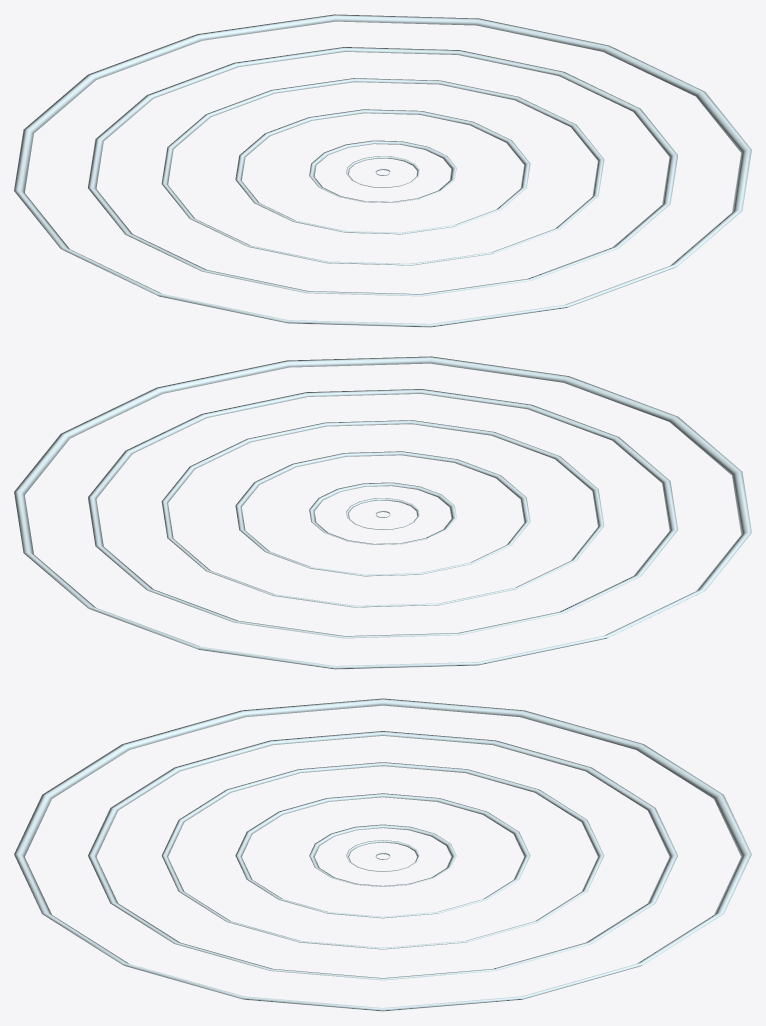
Rendered from sizeRange.fbx.
The picture shows the model from 3 angles, top to bottom: view 1: azimuth 30°, elevation 25°; view 2: azimuth 150°, elevation 25°; view 3: azimuth 270°, elevation 25°; orthographic projection.
Visible parts, largest first — view 1: rangeSize; view 2: rangeSize; view 3: rangeSize.
Boxes of the visible parts, x1,y1,x2,y2 form: rangeSize: (14,14,751,327); rangeSize: (14,356,751,669); rangeSize: (14,698,751,1011).
Bounding box in the file's own units: 546 × 3.03 × 546.
